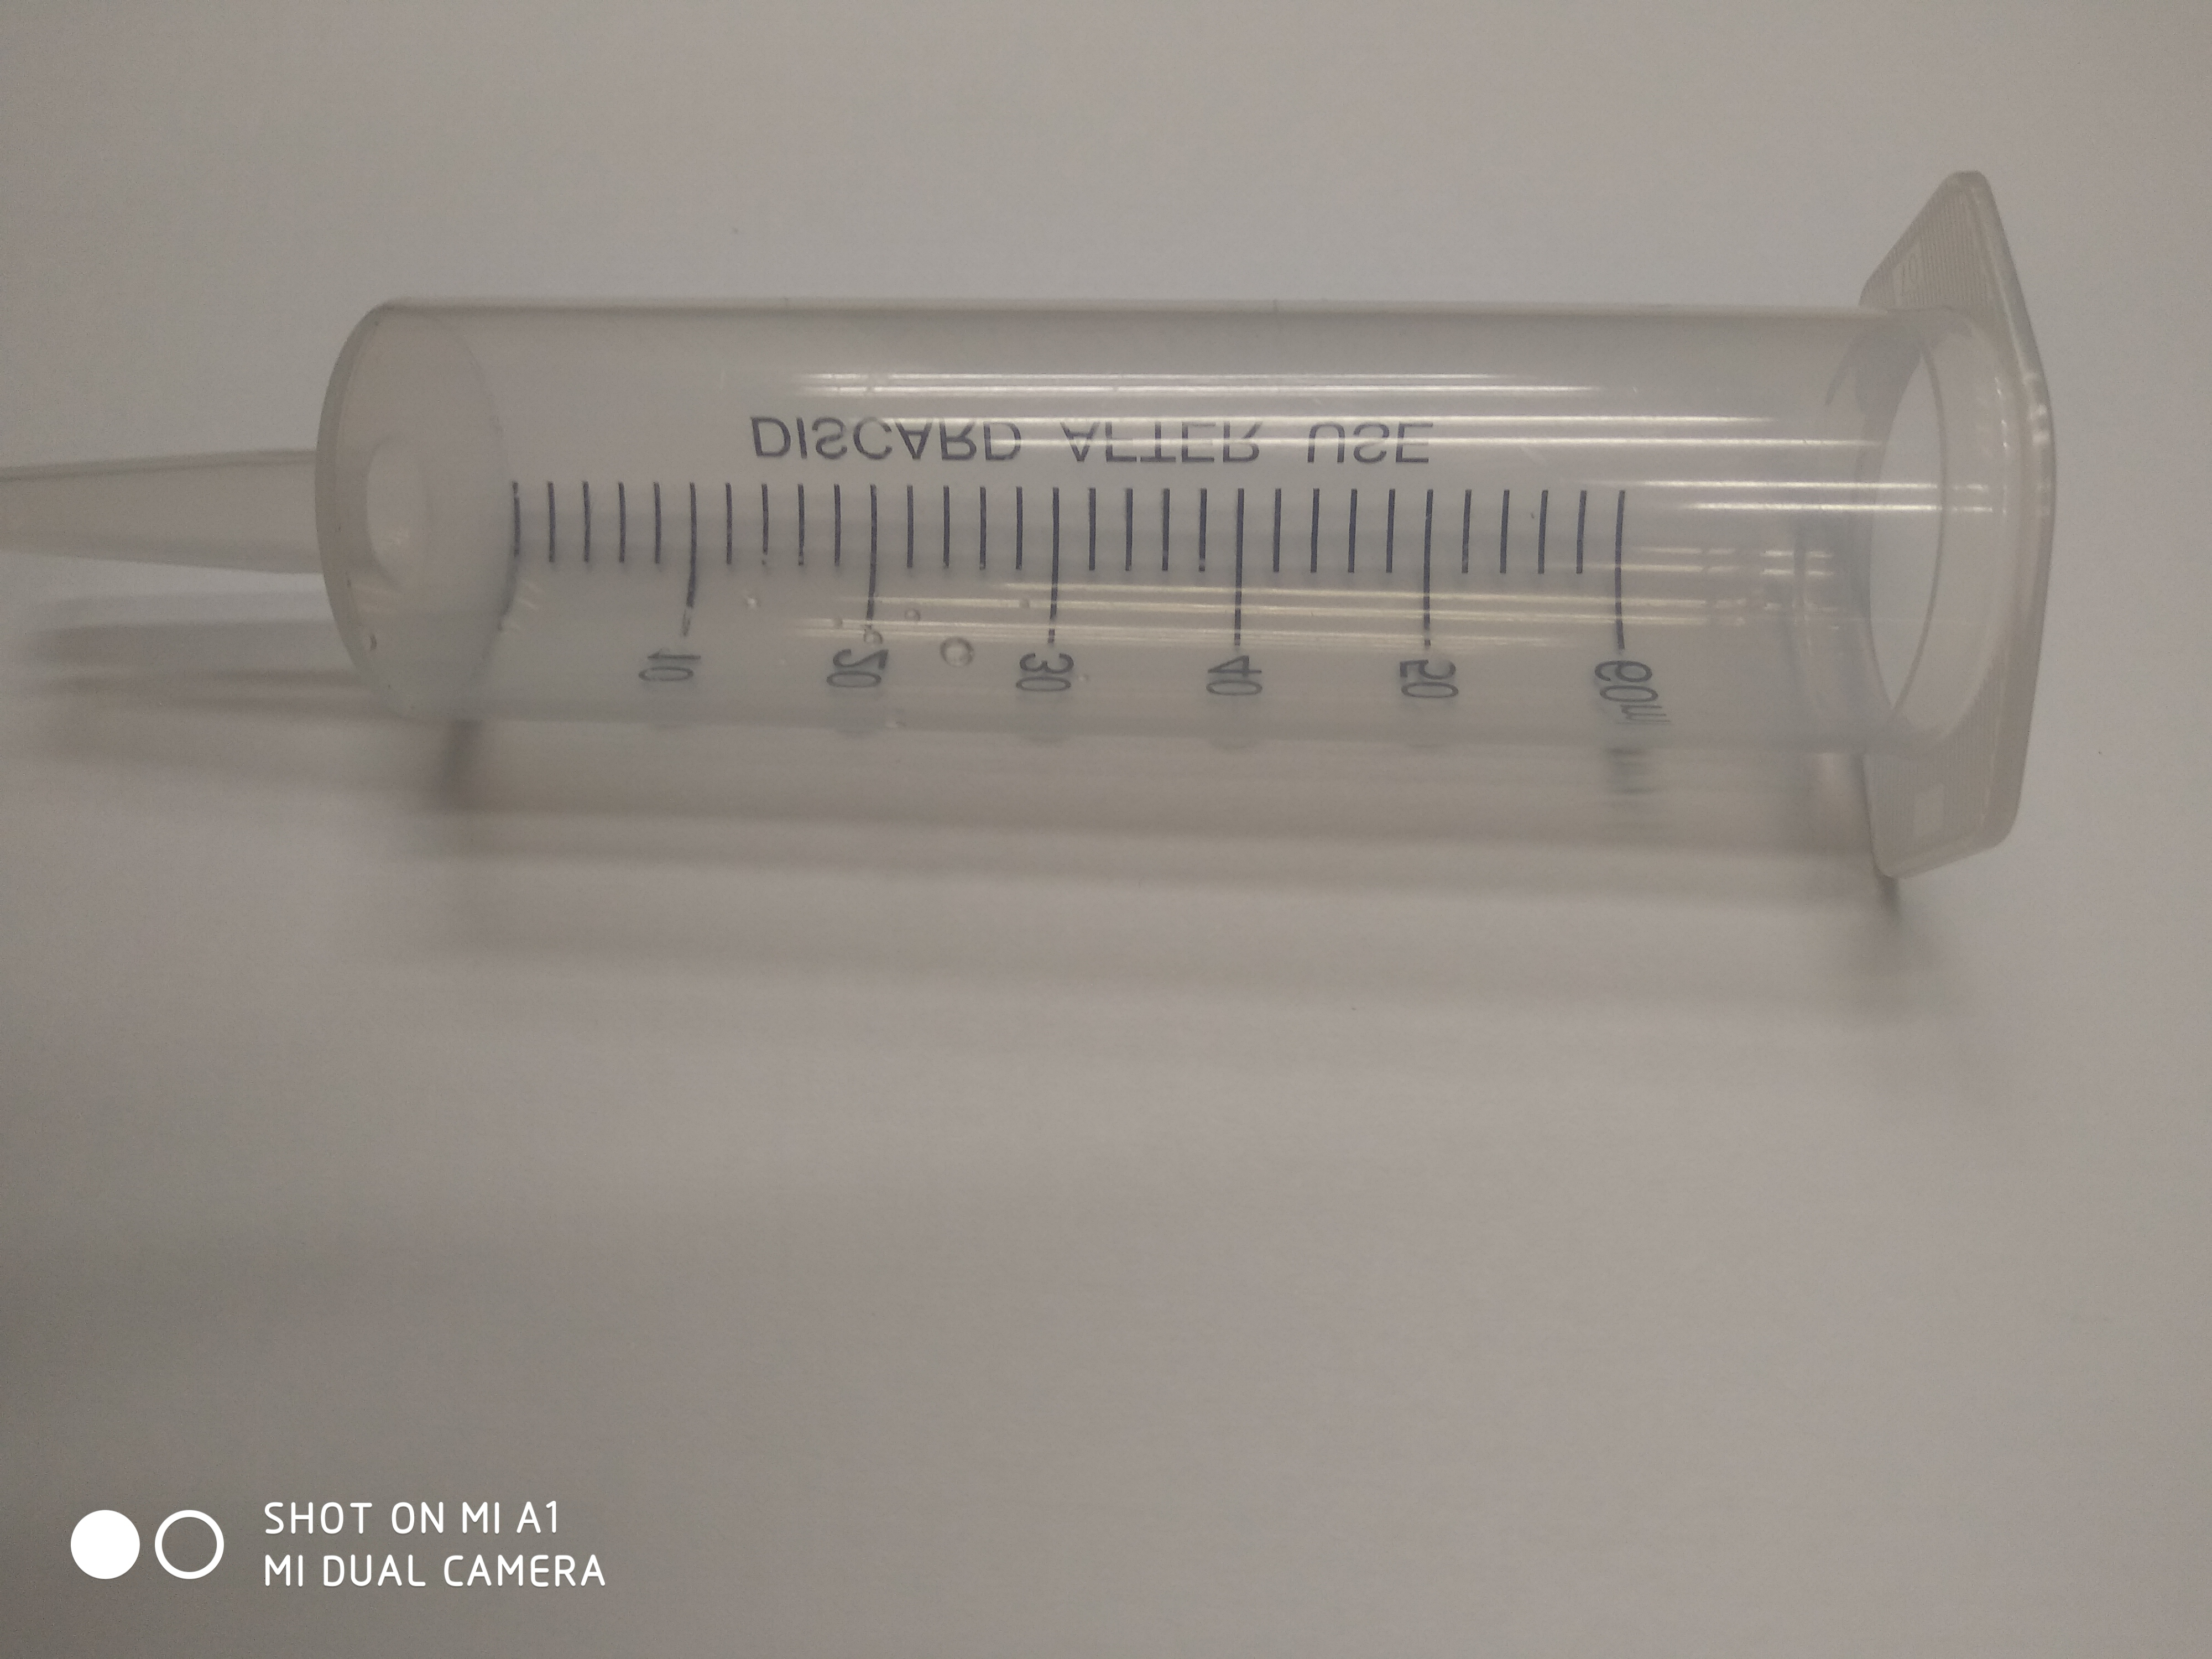syringe: (9, 160, 2055, 885)
